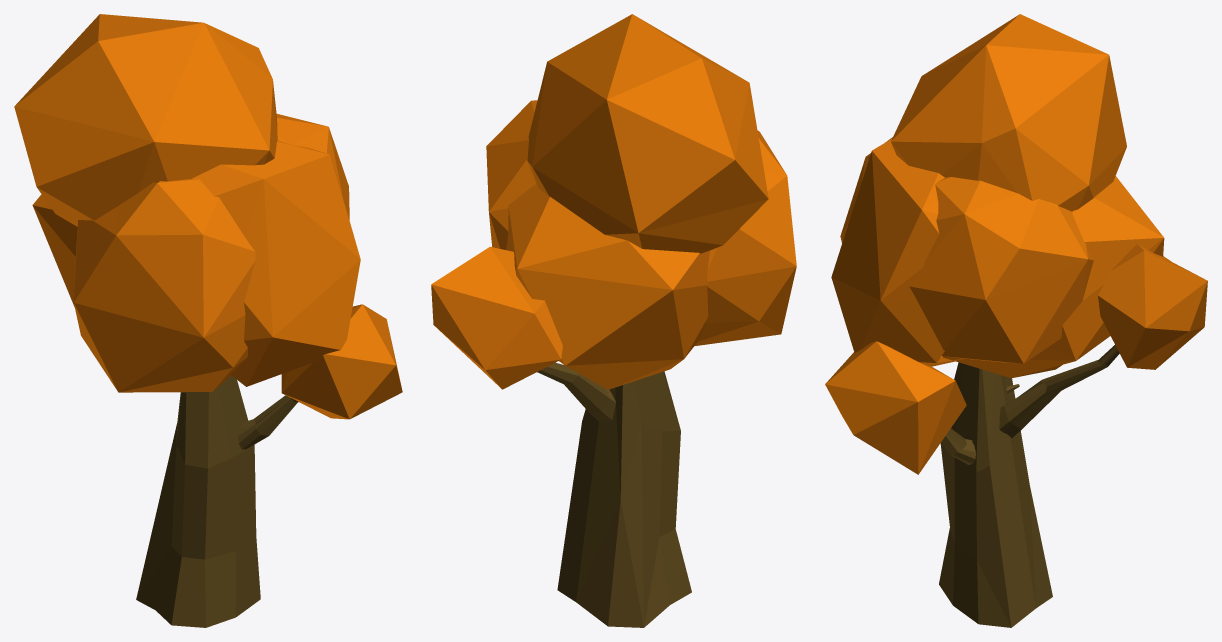
Rendered from Tree#7.fbx.
3 views of the same model, side by side, from view 1: azimuth 30°, elevation 25°; view 2: azimuth 150°, elevation 25°; view 3: azimuth 270°, elevation 25° (orthographic). The views are drawn at different scales.
Parts seen in each view (by area): view 1: Tree#7; view 2: Tree#7; view 3: Tree#7.
Boxes of the visible parts, <box> form: Tree#7: <box>14,14,402,627</box>; Tree#7: <box>431,14,796,627</box>; Tree#7: <box>825,14,1207,627</box>.
Bounding box in the file's own units: 1220 × 2293 × 1430.
